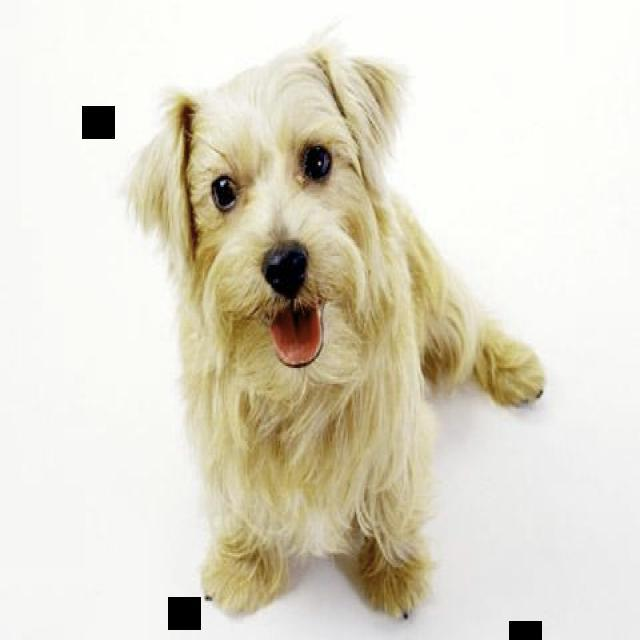adult_dog: (125, 43, 548, 623)
